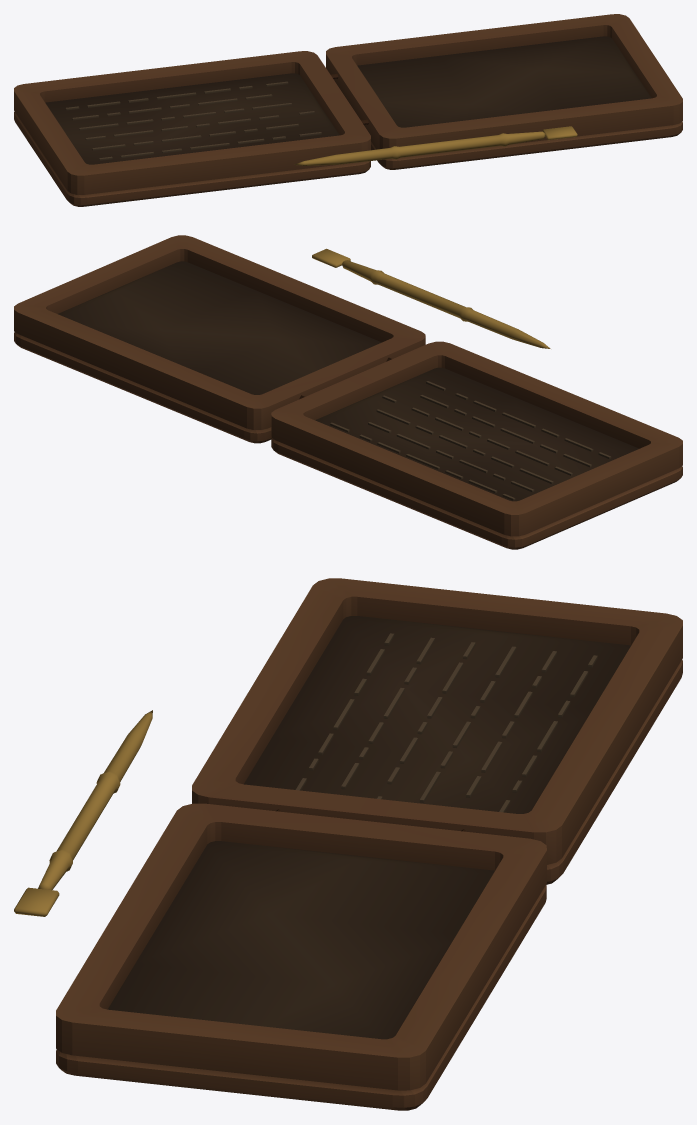
The model's file is wax-tablet.glb.
3 views of the same model, one above another, from view 1: azimuth 30°, elevation 25°; view 2: azimuth 150°, elevation 25°; view 3: azimuth 270°, elevation 25° (orthographic). The views are drawn at different scales.
Parts seen in each view (by area): view 1: base; view 2: base; view 3: base.
Part boxes in pixels (x1=…): base: x1=14, y1=14, x2=682, y2=206; base: x1=14, y1=235, x2=682, y2=549; base: x1=14, y1=578, x2=682, y2=1110.
Bounding box in the file's own units: 0.2969 × 0.022 × 0.1752.
